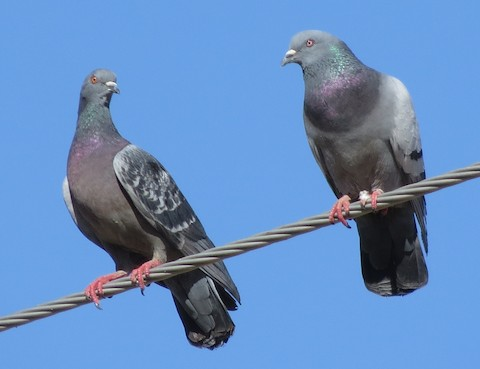pigeon: (59, 65, 247, 352), (274, 22, 443, 301)
